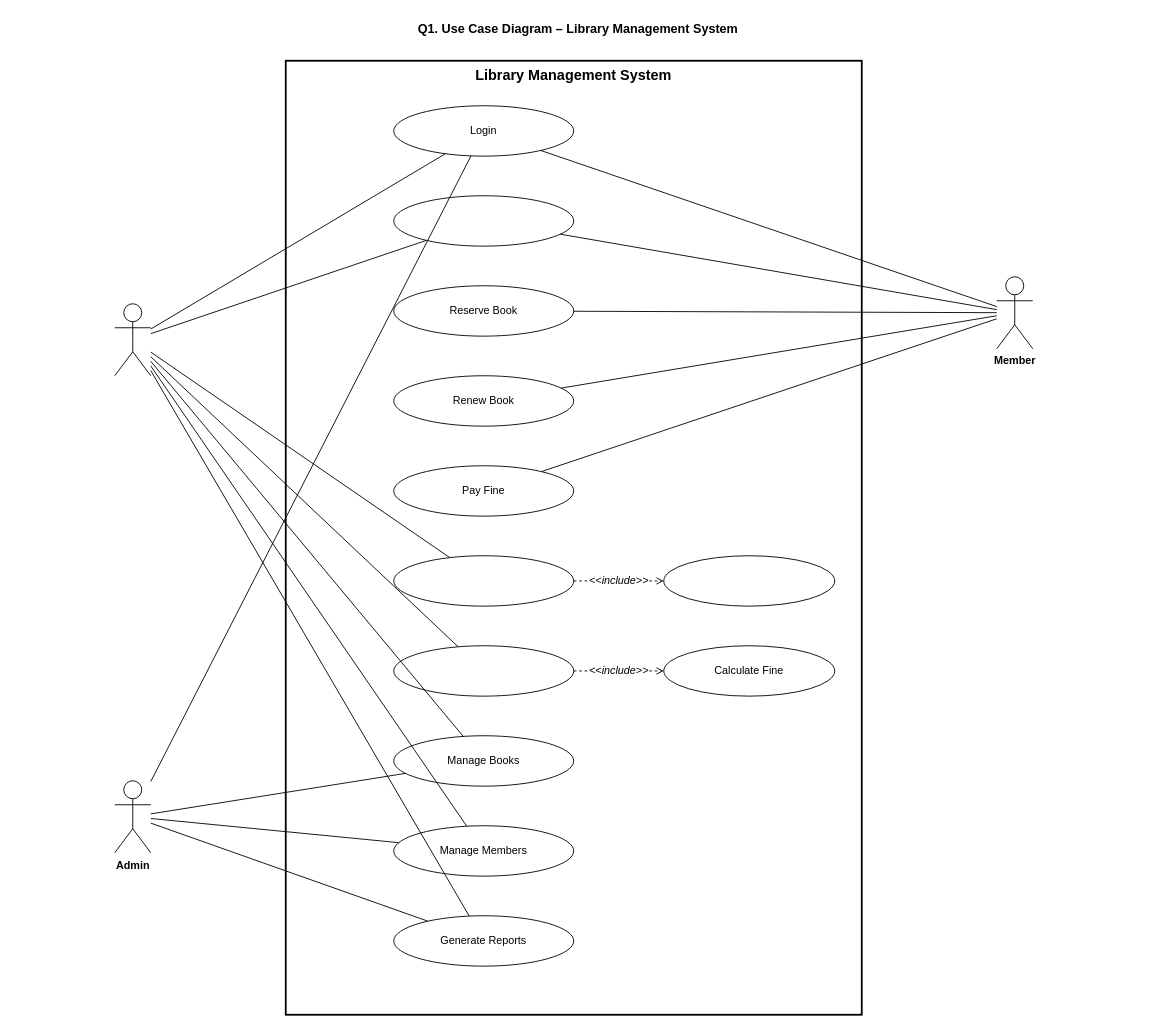
This 1156x1031 diagram has some shape labels left out. Here are the shapes that lost their labels. From the top down, the centre of each, then its label:
At pixel 483 220: "Search Book".
At pixel 132 339: "Librarian".
At pixel 483 580: "Issue Book".
At pixel 749 580: "Verify Member".
At pixel 483 670: "Return Book".
